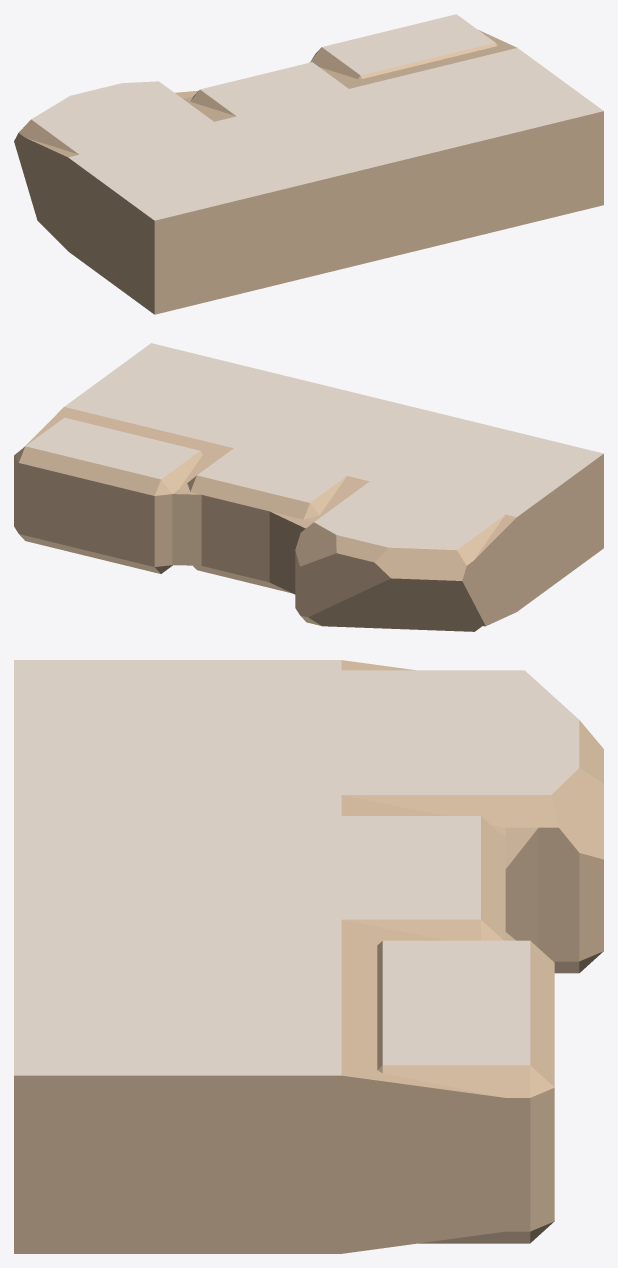
The model's file is Floor_Ruined_Straight_2.fbx.
3 views of the same model, one above another, from view 1: azimuth 30°, elevation 25°; view 2: azimuth 150°, elevation 25°; view 3: azimuth 270°, elevation 25° (orthographic). The views are drawn at different scales.
Visible parts, largest first — view 1: Sandstone_Trim.Sandstone_Trim.object1, Sandstone_Floor.Sandstone_Floor; view 2: Sandstone_Trim.Sandstone_Trim.object1, Sandstone_Floor.Sandstone_Floor; view 3: Sandstone_Floor.Sandstone_Floor, Sandstone_Trim.Sandstone_Trim.object1.
Part boxes in pixels (box(x1,y1,x2,y2)): Sandstone_Trim.Sandstone_Trim.object1: box(14, 30, 603, 314); Sandstone_Floor.Sandstone_Floor: box(31, 14, 603, 220); Sandstone_Trim.Sandstone_Trim.object1: box(14, 407, 603, 631); Sandstone_Floor.Sandstone_Floor: box(26, 343, 603, 550); Sandstone_Floor.Sandstone_Floor: box(14, 660, 579, 1075); Sandstone_Trim.Sandstone_Trim.object1: box(14, 660, 603, 1253).
Size of the model in its own units: 1 by 0.2 by 0.6.
